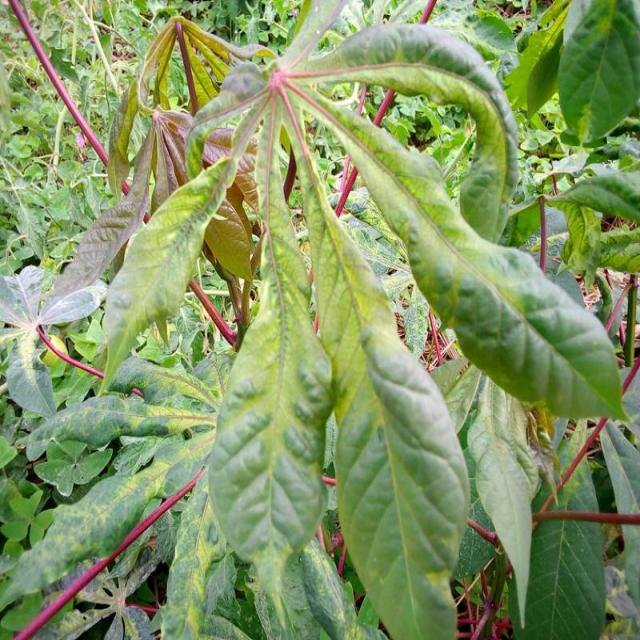cassava leaf: (2, 1, 632, 638)
